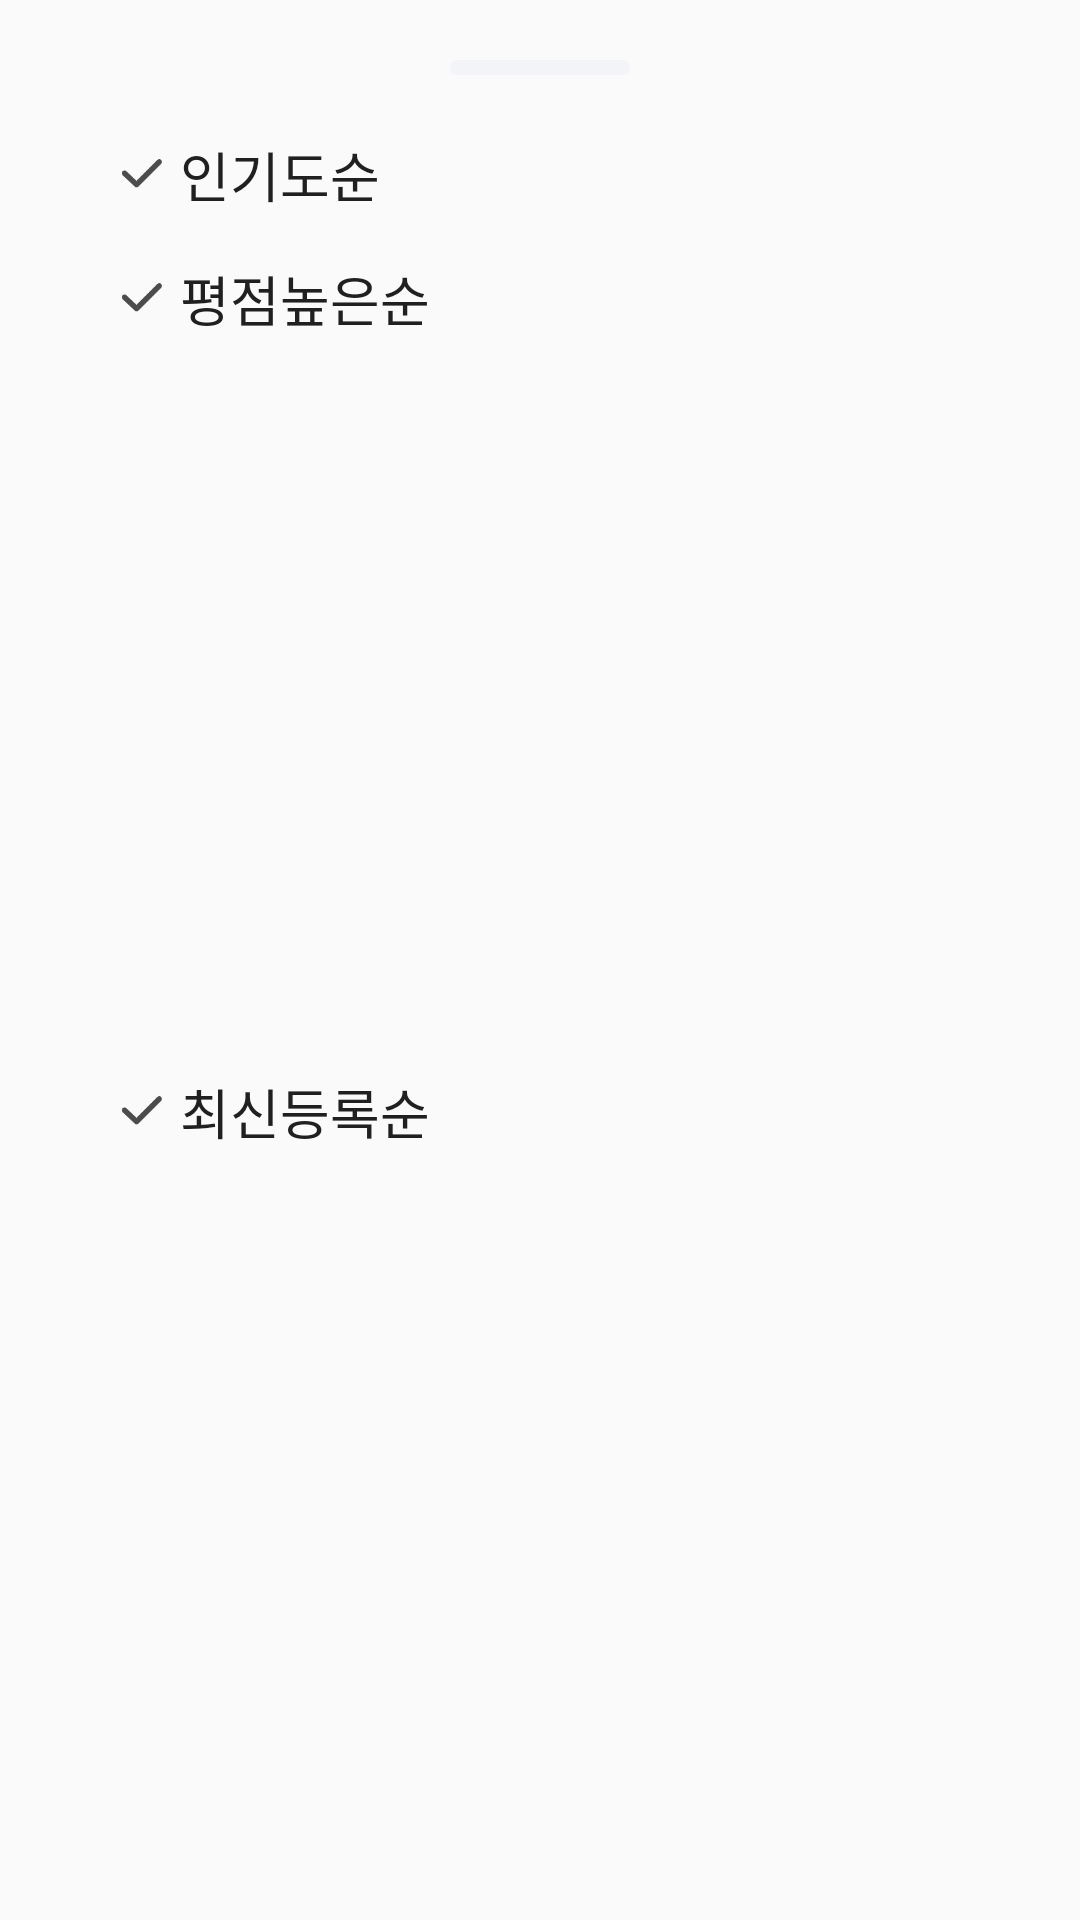

Where to tap for icons on this 1080x1920 app screen, as [x,y]:
sort check on off: [142,173], [142,297], [142,1110]
